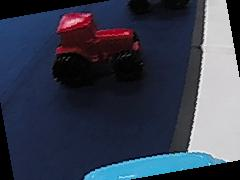Tracktor: (50, 10, 144, 85)
